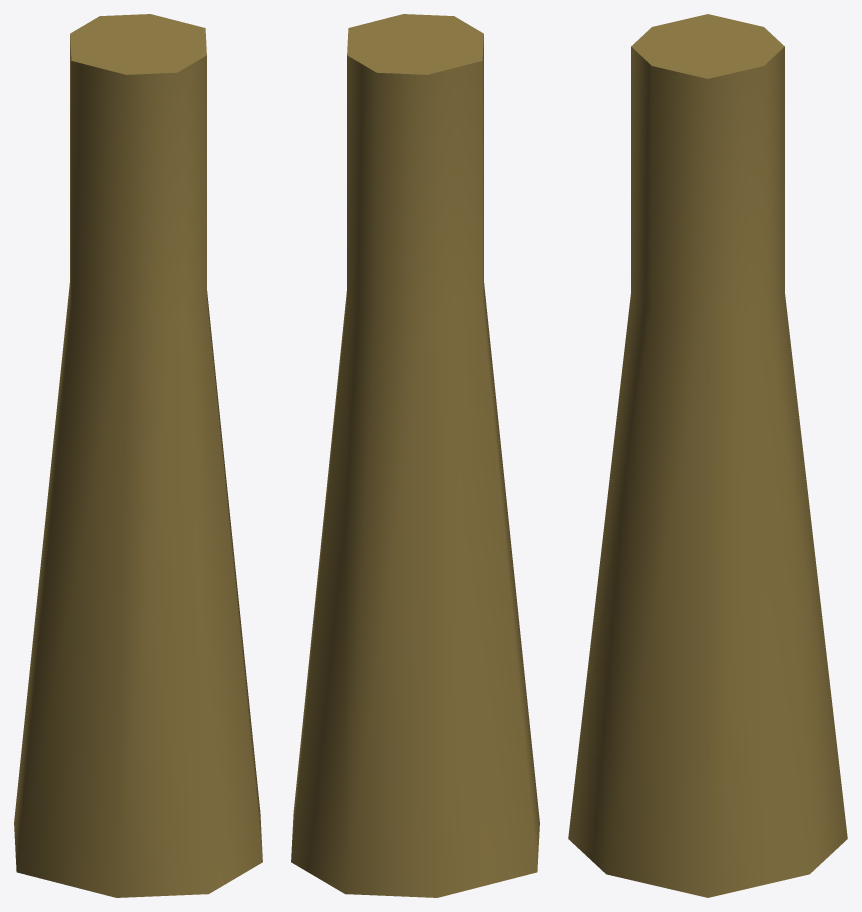
File: Baby_Apple_Tree.fbx
The picture shows the model from 3 angles, left to right: view 1: azimuth 30°, elevation 25°; view 2: azimuth 150°, elevation 25°; view 3: azimuth 270°, elevation 25°; orthographic projection.
Visible parts, largest first — view 1: Babby_Tree_Apple; view 2: Babby_Tree_Apple; view 3: Babby_Tree_Apple.
Boxes of the visible parts, box(x1,y1,x2,y2) form: Babby_Tree_Apple: box(14, 14, 262, 897); Babby_Tree_Apple: box(291, 14, 539, 897); Babby_Tree_Apple: box(568, 14, 847, 897).
Size of the model in its own units: 0.3526 by 1.1 by 0.3526.
